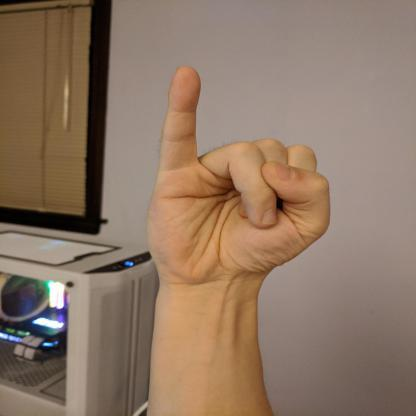I: (146, 66, 330, 293)
